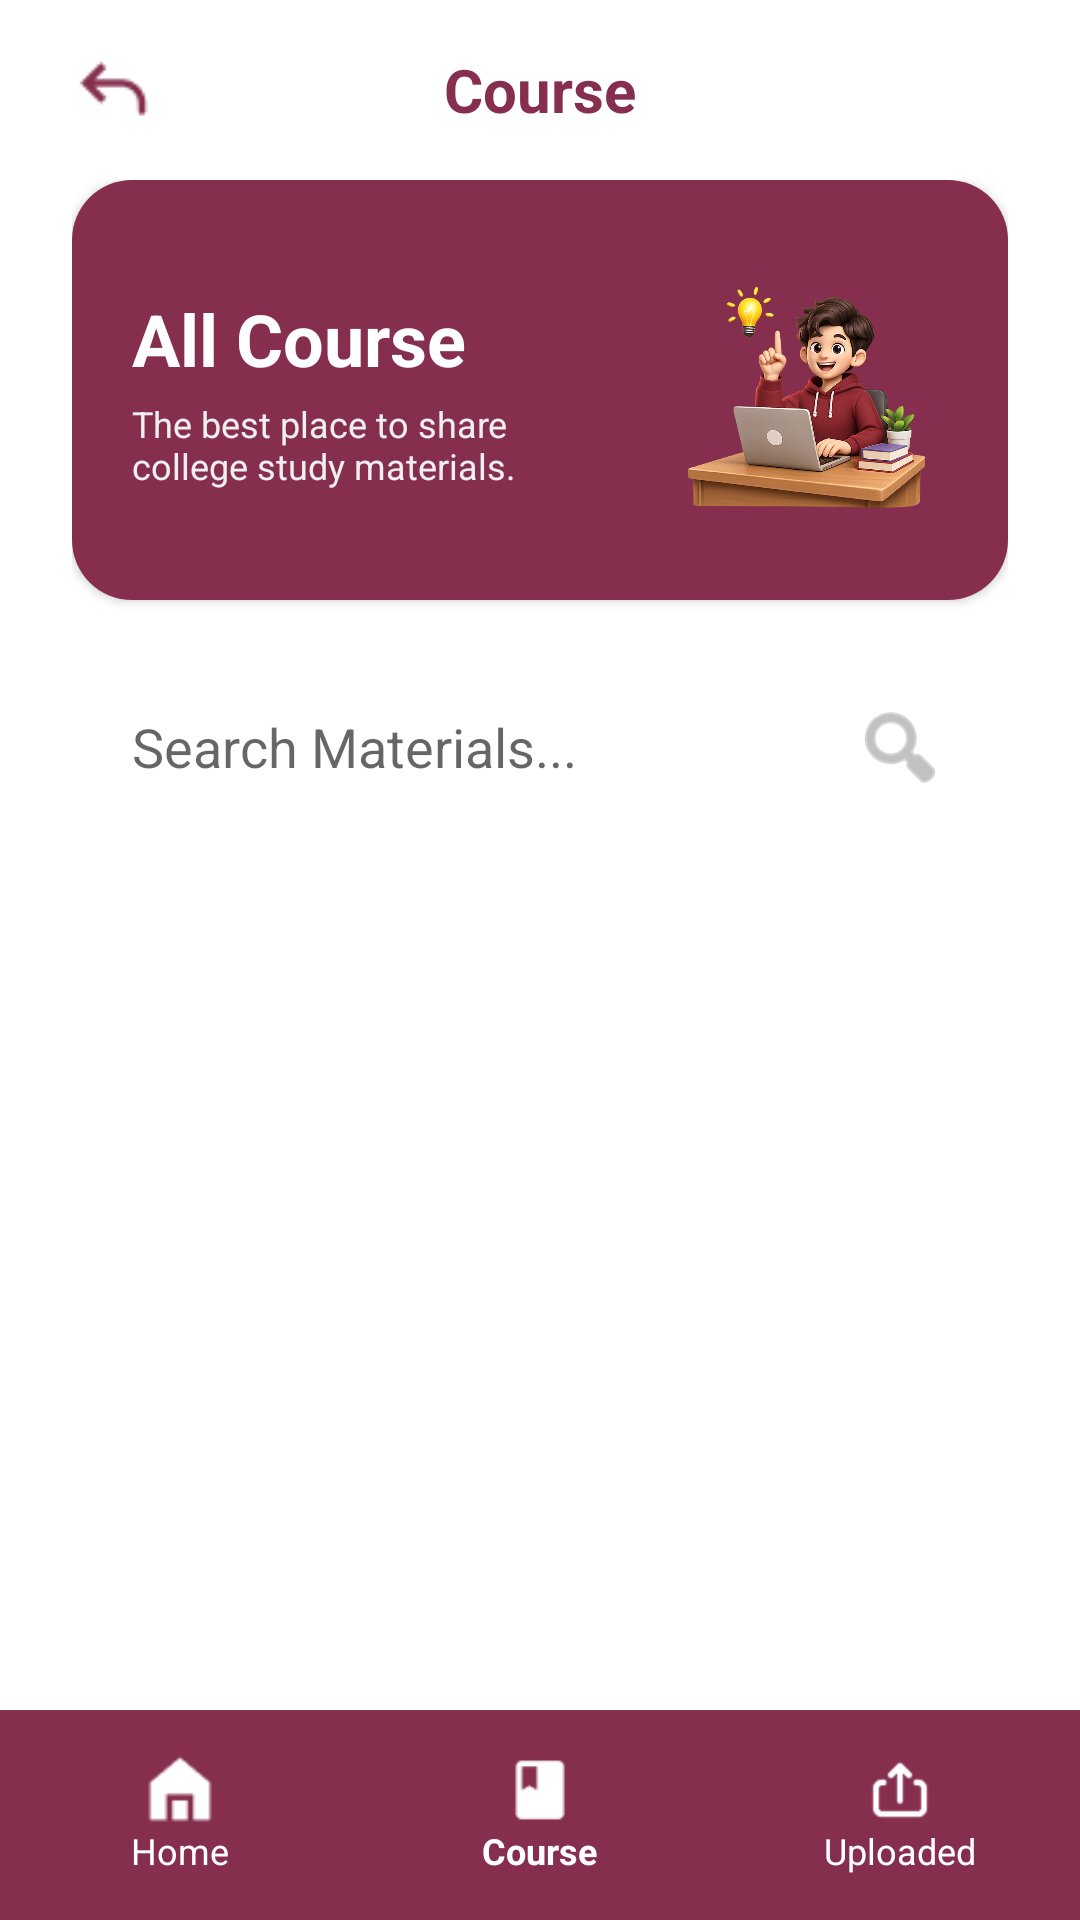

Screen size 1080*1920. Icon name, then its center in pixels as [x,y]:
back: [114,88]
upload admin: [900,1790]
